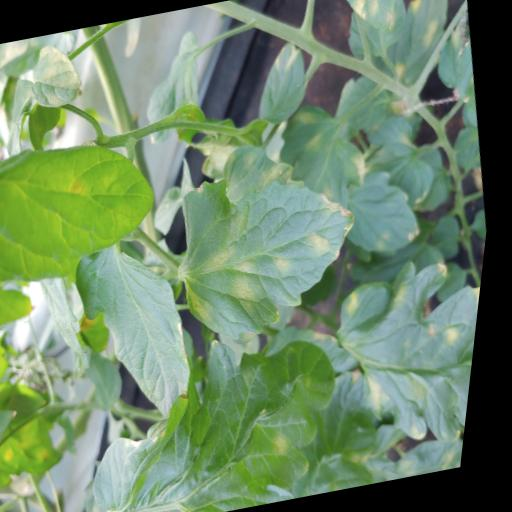Leaf Mold: (112, 332, 371, 512), (162, 151, 385, 351), (324, 246, 490, 462), (247, 38, 319, 130), (329, 0, 411, 44)
